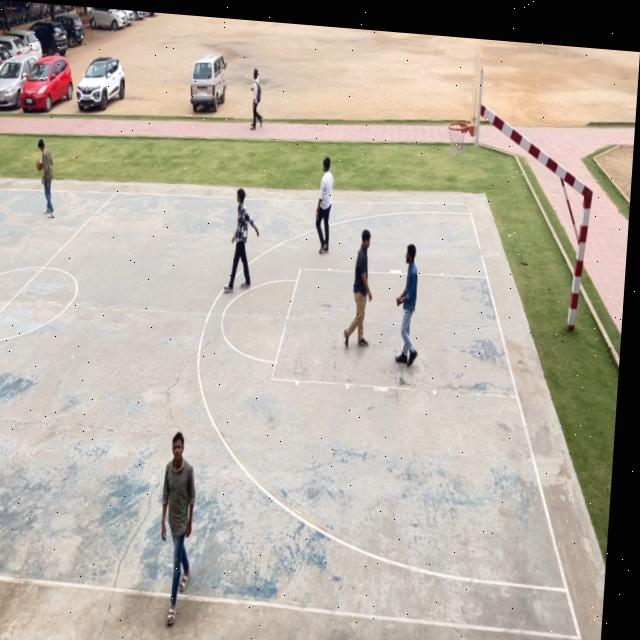basketball: (37, 159, 43, 172)
hoop: (444, 119, 470, 161)
